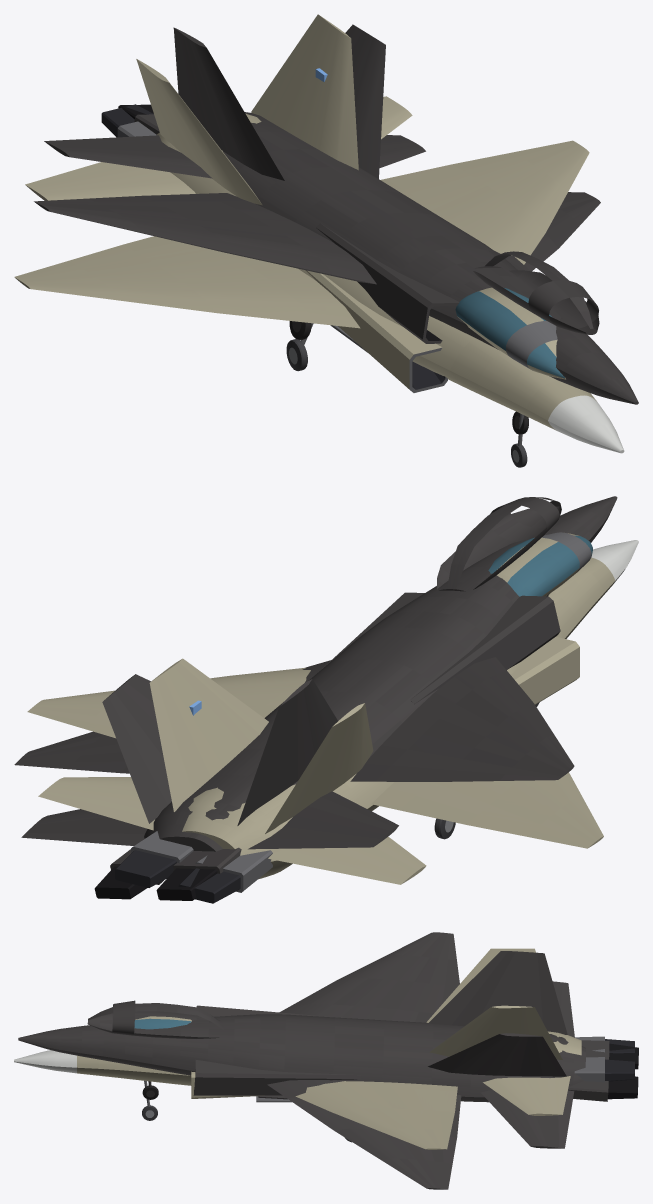
File: raptor__f_22_raptor.glb
3 views of the same model, one above another, from view 1: azimuth 30°, elevation 25°; view 2: azimuth 150°, elevation 25°; view 3: azimuth 270°, elevation 25° (orthographic). The views are drawn at different scales.
Parts seen in each view (by area): view 1: Fuselage_Mesh, Wreck; view 2: Wreck, Fuselage_Mesh; view 3: Wreck, Fuselage_Mesh.
Part boxes in pixels (left/top/right/bottom): Fuselage_Mesh: left=14, top=14, right=624, bottom=467; Wreck: left=34, top=24, right=638, bottom=434; Wreck: left=14, top=496, right=617, bottom=900; Fuselage_Mesh: left=27, top=532, right=638, bottom=903; Wreck: left=18, top=932, right=638, bottom=1189; Fuselage_Mesh: left=14, top=948, right=634, bottom=1149.
Size of what is drawn, in the model's own units: 13.9 by 5.46 by 19.98.
